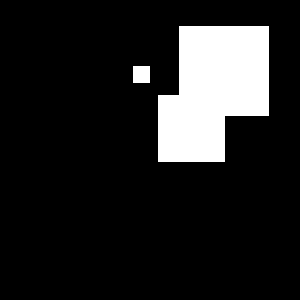circle: (179, 26, 269, 116), (158, 95, 225, 162), (133, 66, 150, 83)
